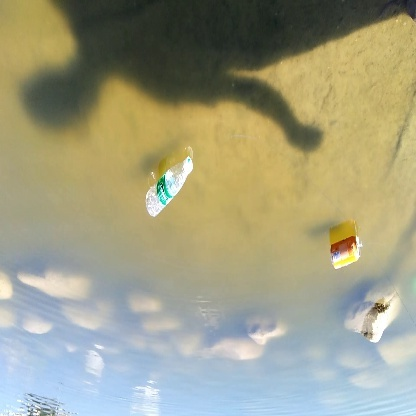bottle: (138, 154, 203, 221), (323, 228, 366, 273)
